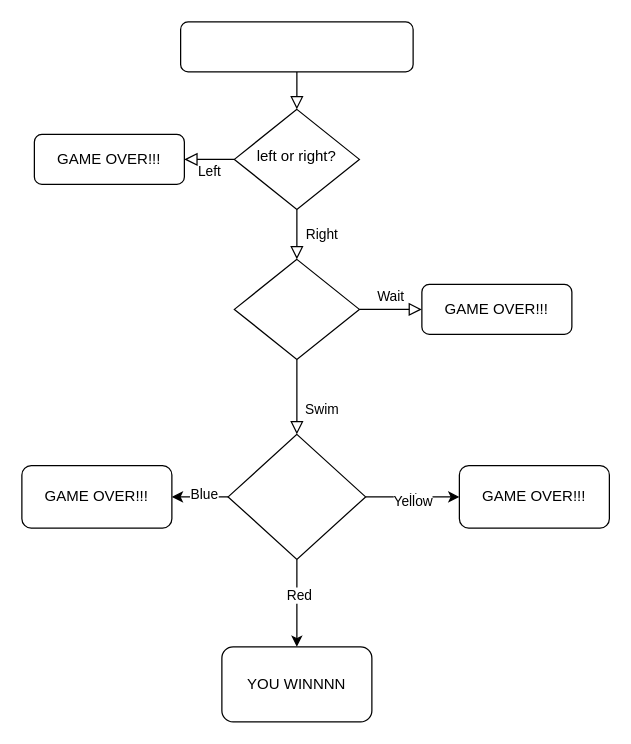
Some shapes in this 631 by 744 pixel diagram are drawn without their labels. Each missing label, with the centre of its shape:
"swim or wait?" goes at [296,308].
"Welcome to Treasure Island. Your mission is to find the treasure." goes at [296,46].
"Which door?" goes at [296,496].
